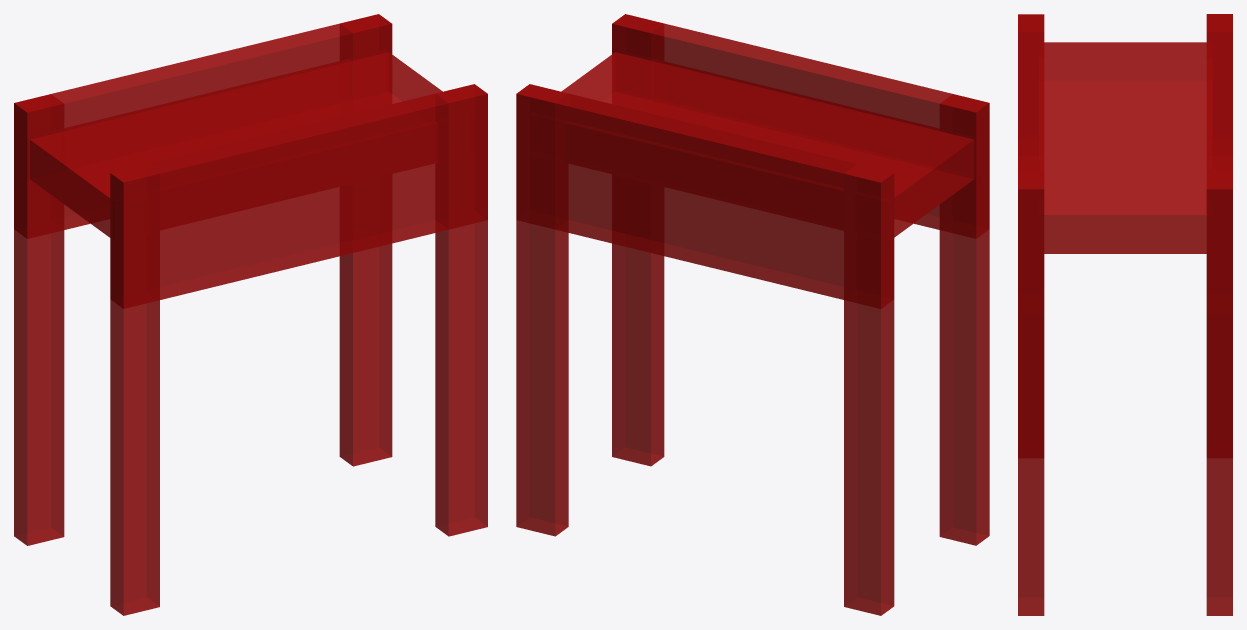
Rendered from SM_Bld_Village_ArchwayBridge_02_Collision.fbx.
3 views of the same model, side by side, from view 1: azimuth 30°, elevation 25°; view 2: azimuth 150°, elevation 25°; view 3: azimuth 270°, elevation 25° (orthographic).
Visible parts, largest first — view 1: SM_Bld_Village_ArchwayBridge_02_Collision; view 2: SM_Bld_Village_ArchwayBridge_02_Collision; view 3: SM_Bld_Village_ArchwayBridge_02_Collision.
Boxes of the visible parts, x1,y1,x2,y2 form: SM_Bld_Village_ArchwayBridge_02_Collision: [14, 14, 487, 615]; SM_Bld_Village_ArchwayBridge_02_Collision: [516, 14, 989, 615]; SM_Bld_Village_ArchwayBridge_02_Collision: [1018, 14, 1232, 615].
Size of the model in its own units: 395 by 448 by 204.
